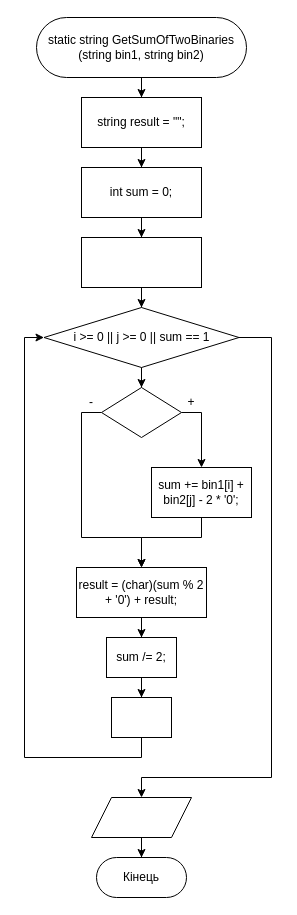
Image size: 297x915. Some labels were removed from this diagram. Each missing label, with the centre of its shape:
"i--; j--;" belongs at (x=141, y=717).
"int i = bin1.Length - 1, j = bin2.Length - 1;" belongs at (x=141, y=262).
"j >= 0" belongs at (x=141, y=412).
"return result;" belongs at (x=141, y=817).
